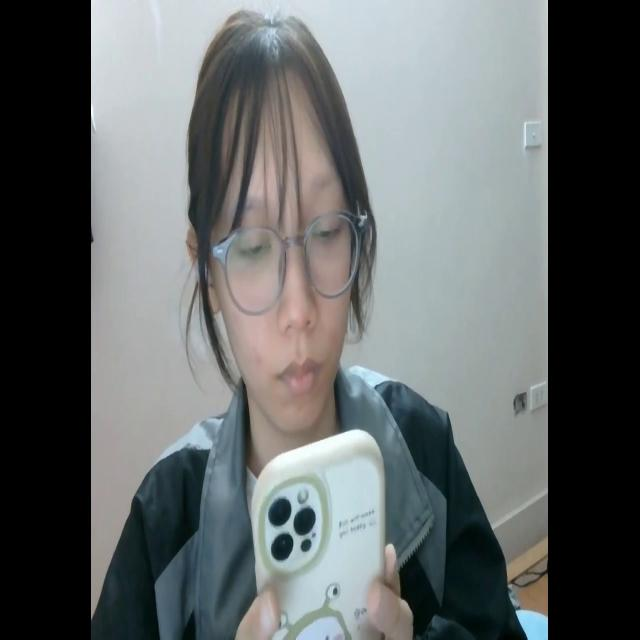phone: (252, 422, 390, 640)
student: (108, 10, 524, 640)
